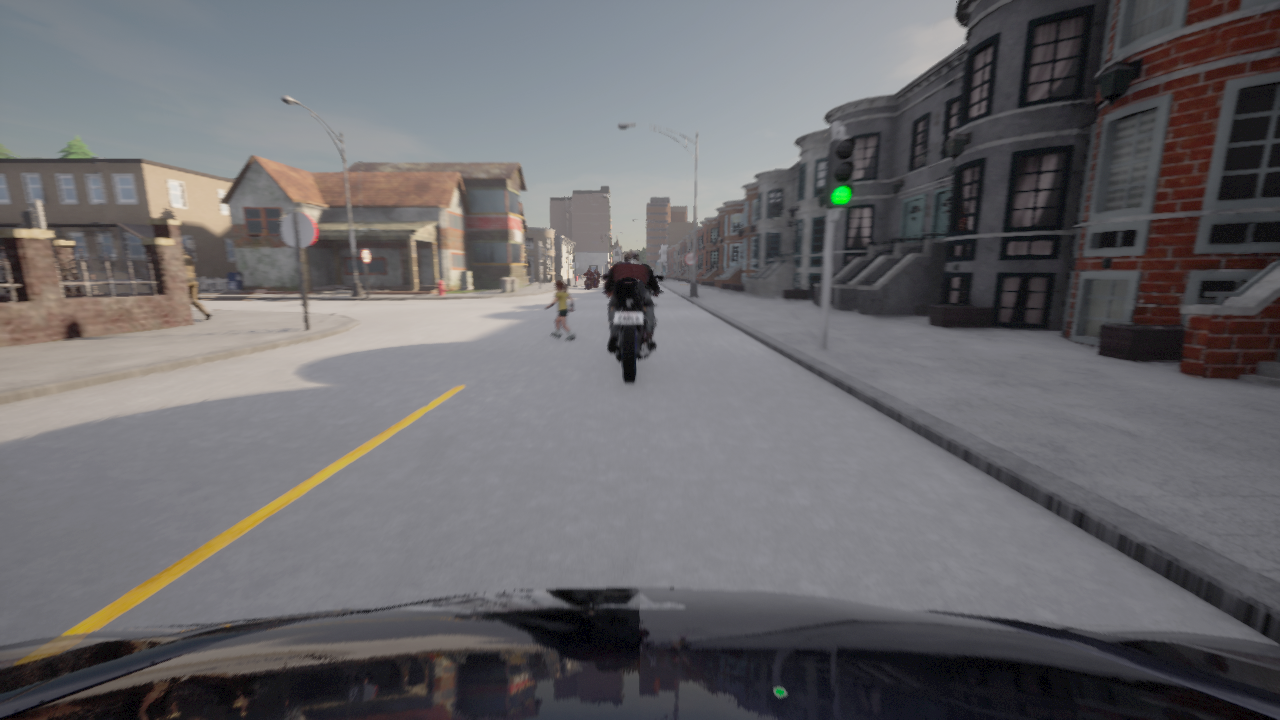cyclist: (0, 588, 1279, 719), (602, 274, 664, 382), (584, 273, 591, 288), (592, 273, 599, 287)
pedestrian: (182, 247, 212, 321), (546, 281, 574, 339)
